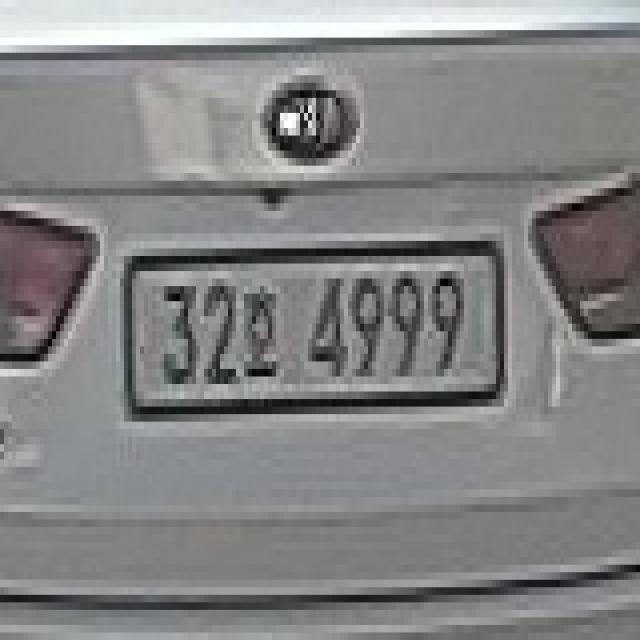2: (200, 278, 236, 392)
3: (160, 279, 196, 384)
4: (308, 271, 348, 384)
9: (388, 264, 424, 384), (428, 264, 464, 384), (348, 271, 384, 384)
ho: (236, 279, 280, 384)
license_plate: (128, 249, 504, 414)
